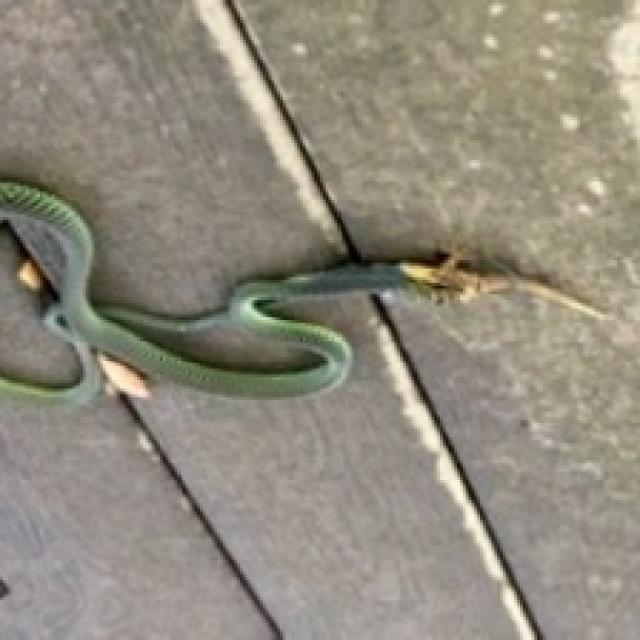paradise tree snake: (0, 180, 400, 400)
